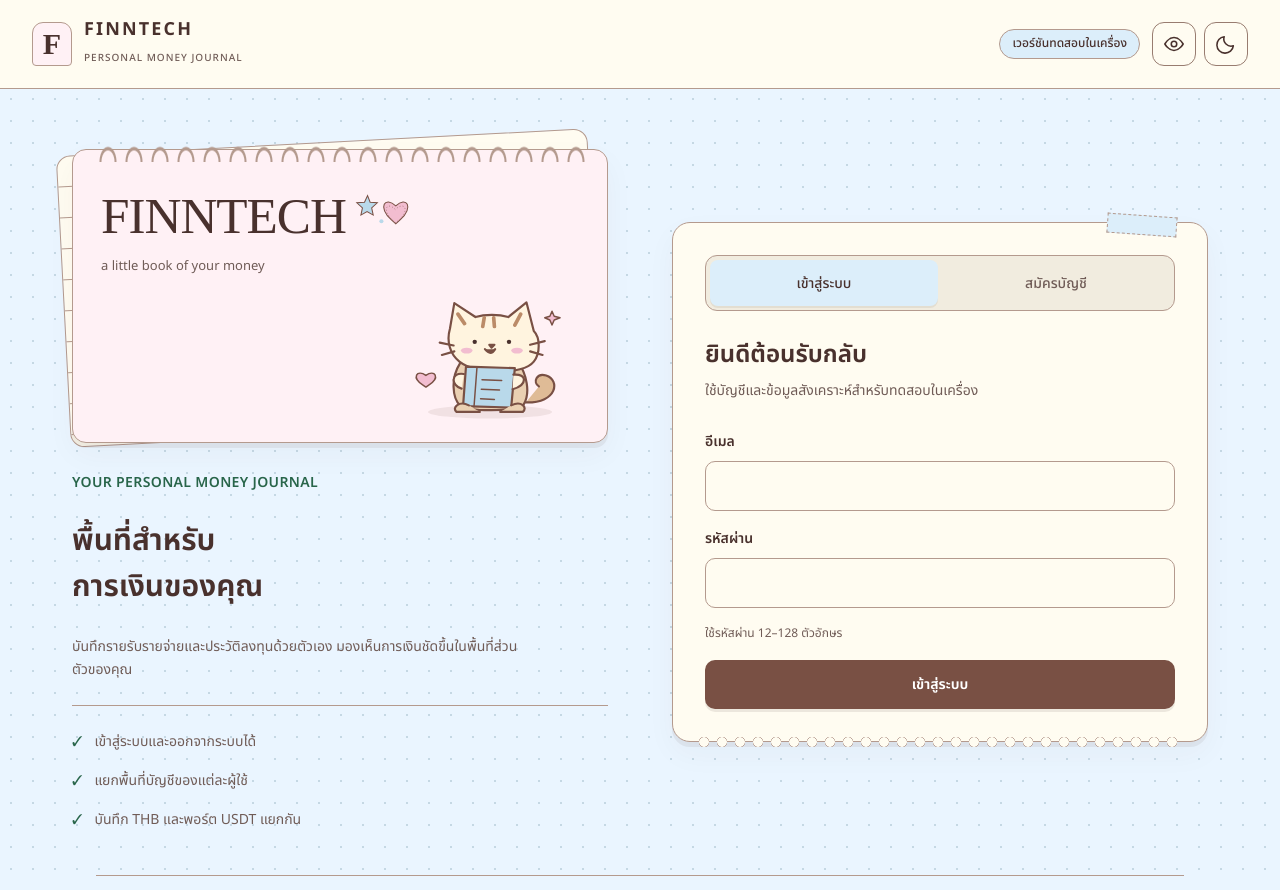
Scenario: Thai Auth UI › sends only one login request while a response is pending despite repeated submission
Expected: the button "เข้าสู่ระบบ" below "ใช้รหัสผ่าน 12–128 ตัวอักษร" is enabled, x1=705 y1=660 x2=1175 y2=709
Type "synthetic@example.invalid" into the field labelled "อีเมล" at (940, 486), box x1=705 y1=461 x2=1175 y2=511
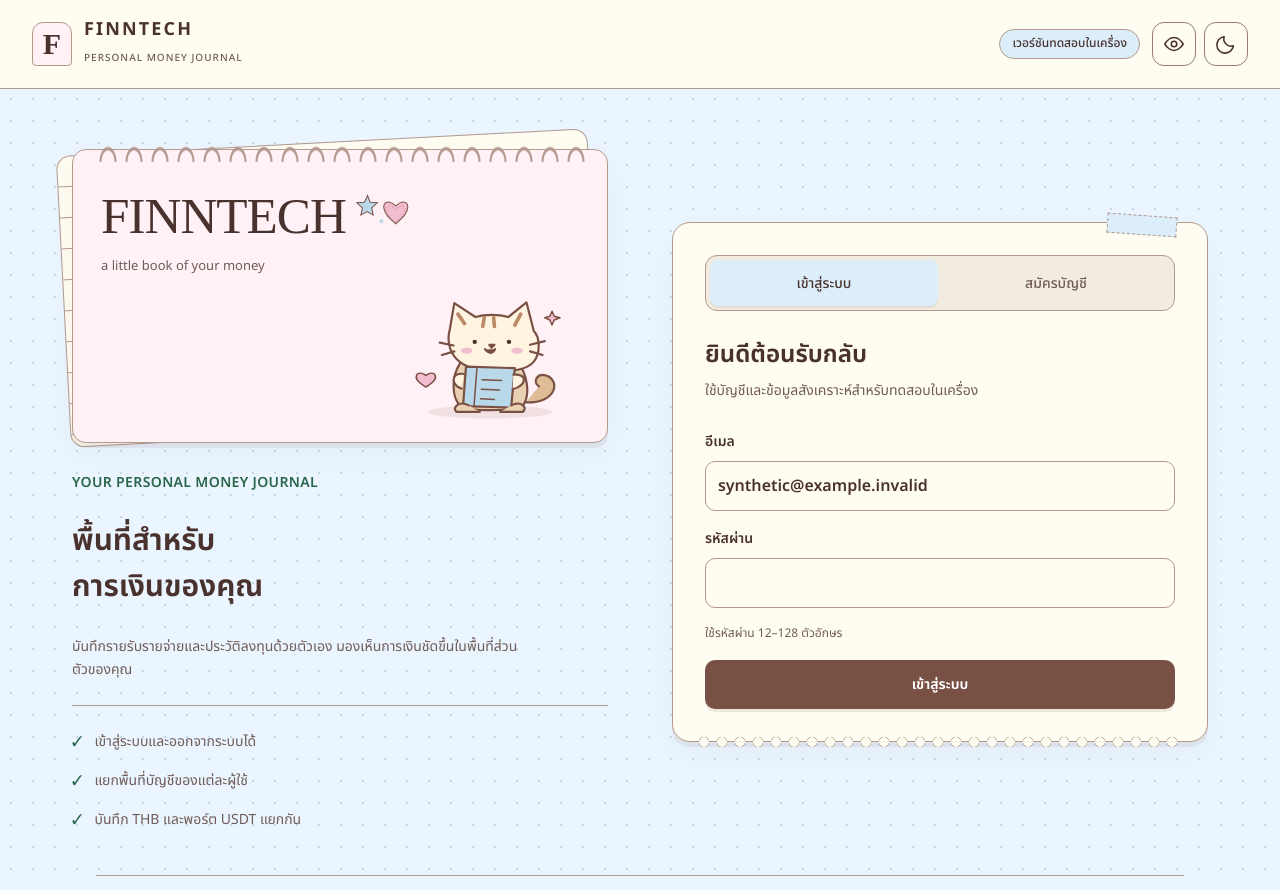
Type "synthetic-test-only-value" into the password field labelled "รหัสผ่าน" at (940, 583), box x1=705 y1=558 x2=1175 y2=608
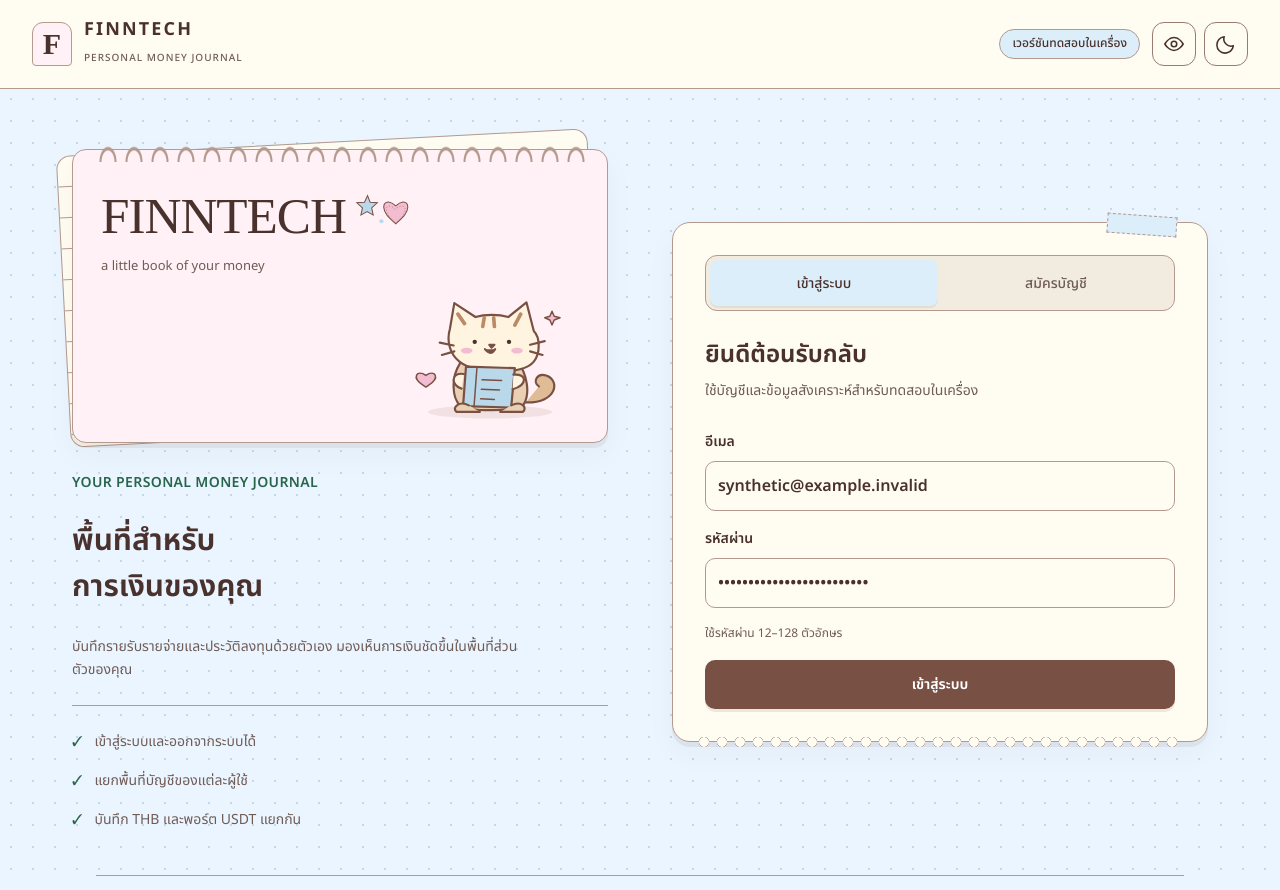
Submit the form named "ฟอร์มเข้าสู่ระบบ", box x1=705 y1=430 x2=1175 y2=709
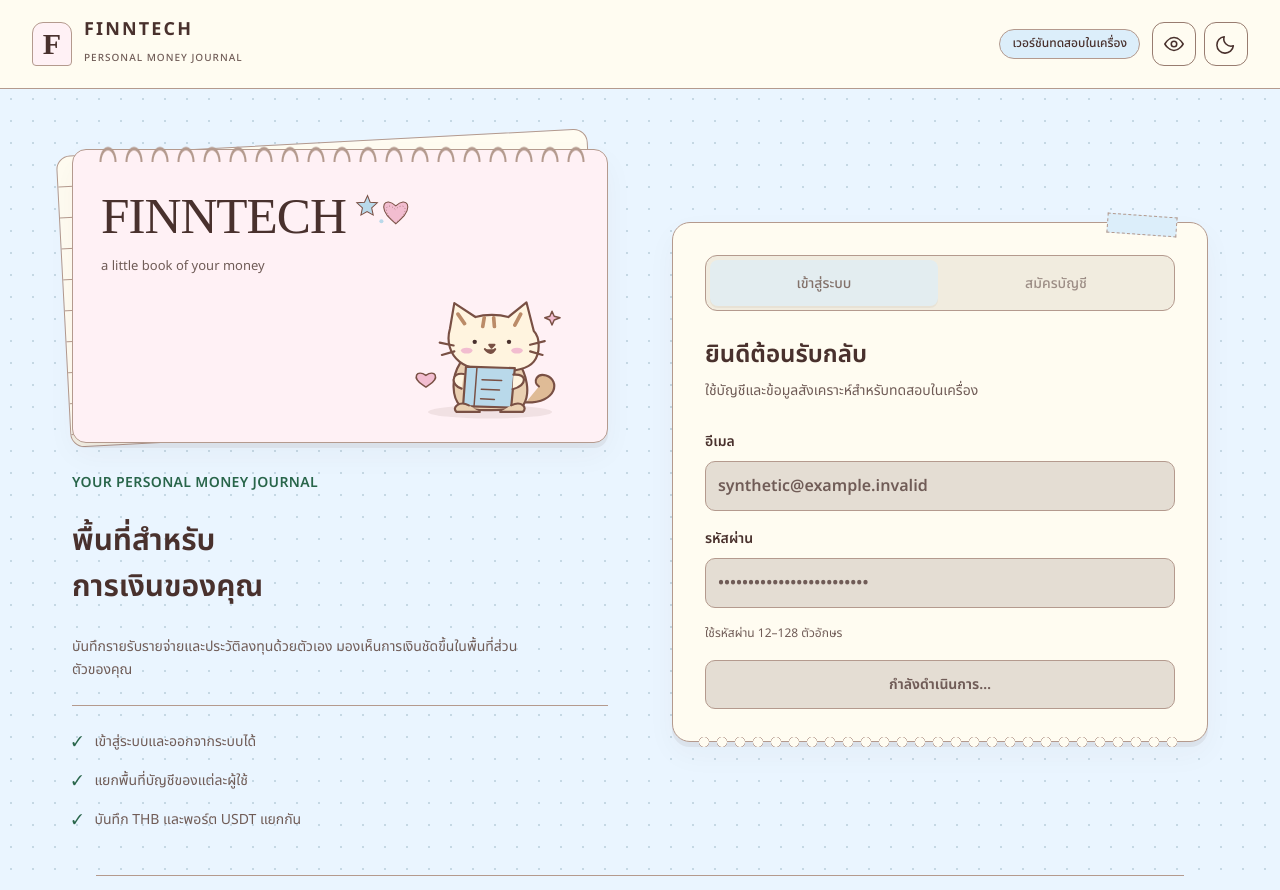
Submit the form named "ฟอร์มเข้าสู่ระบบ", box x1=705 y1=430 x2=1175 y2=709
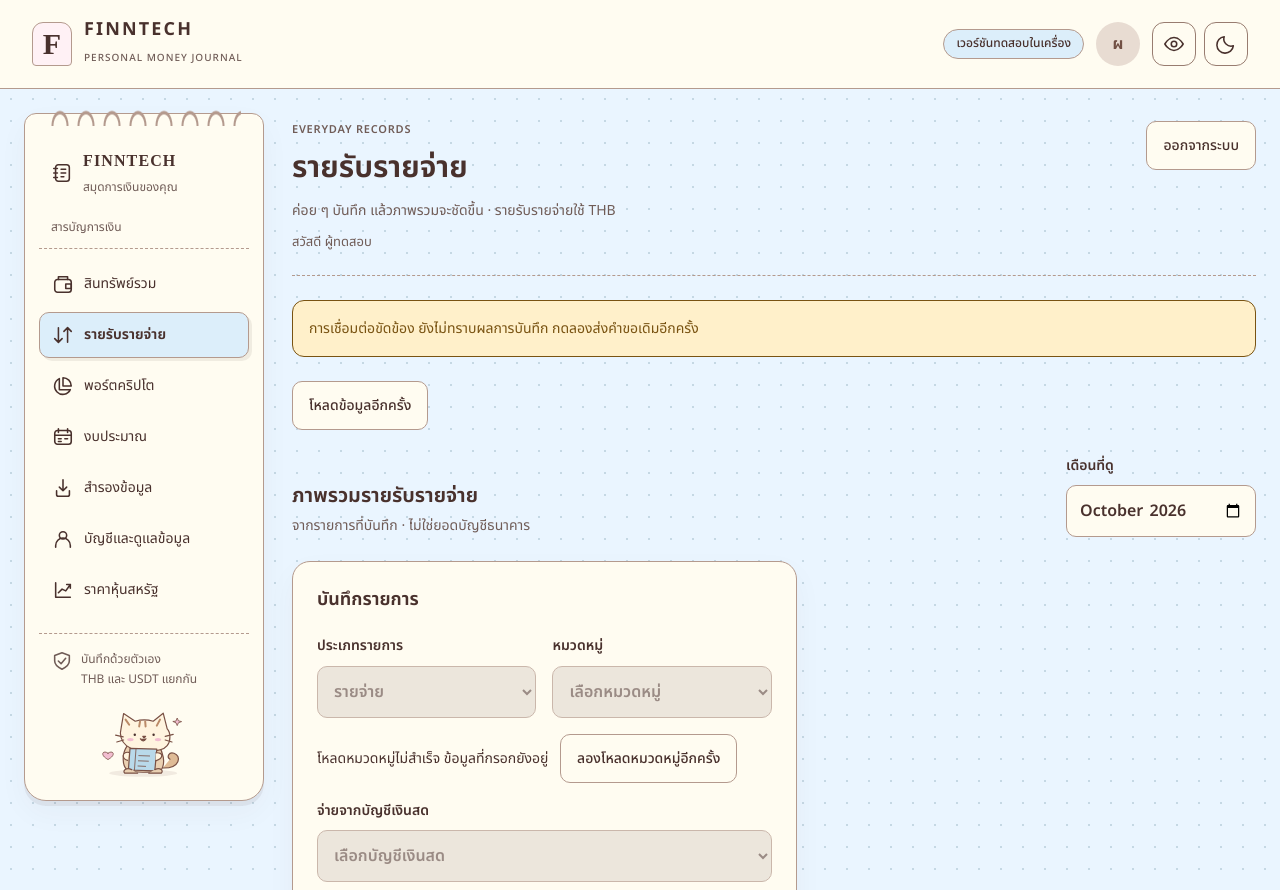
Result: the text "สวัสดี ผู้ทดสอบ" is shown at x1=292 y1=232 x2=372 y2=252
